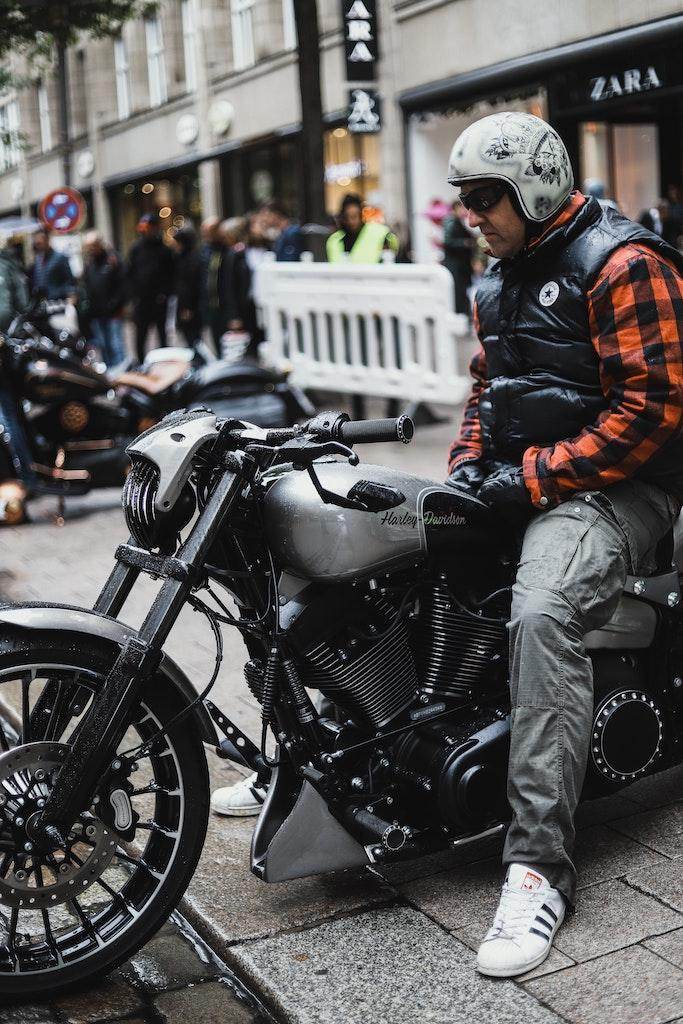helmet: (446, 110, 575, 260)
